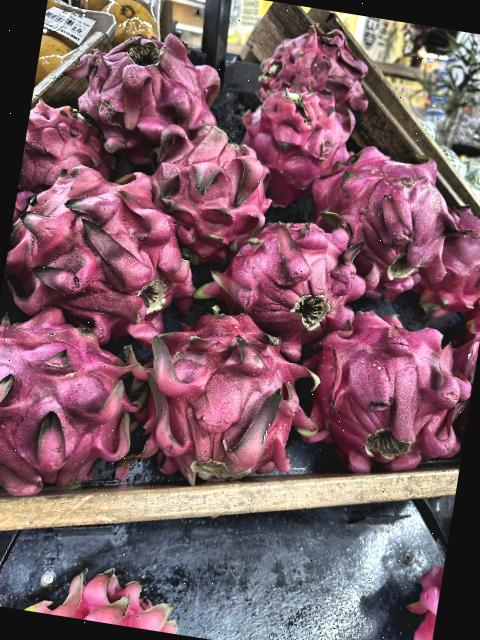buah-naga-matang: (111, 297, 330, 488), (0, 165, 210, 341), (304, 300, 480, 491), (0, 296, 157, 502), (304, 129, 470, 304), (59, 21, 234, 152), (215, 212, 375, 346), (229, 68, 361, 196), (248, 15, 387, 121), (19, 87, 120, 197), (433, 192, 480, 323)
